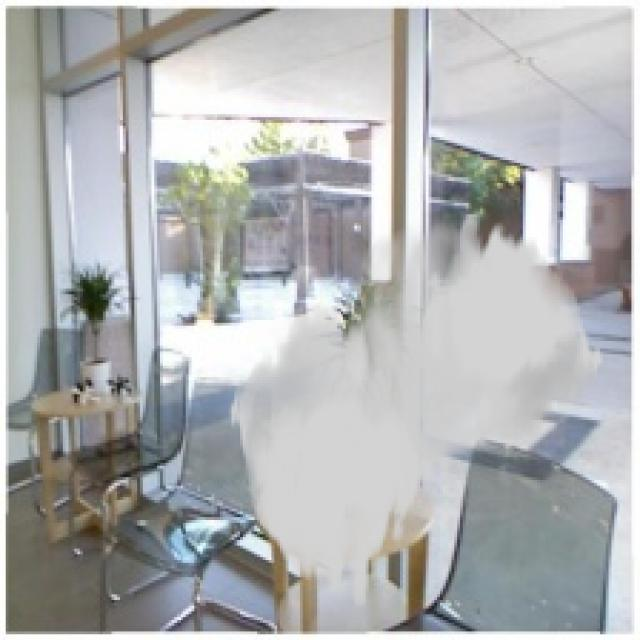smoke: (228, 211, 606, 606)
